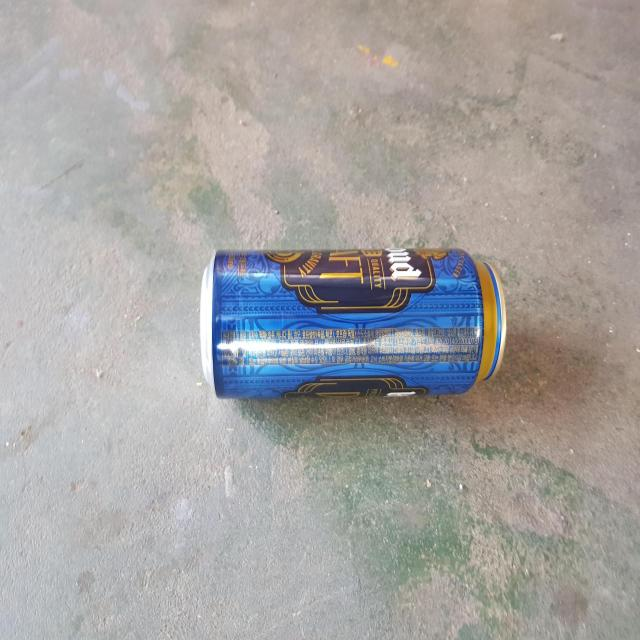can: (200, 248, 507, 398)
